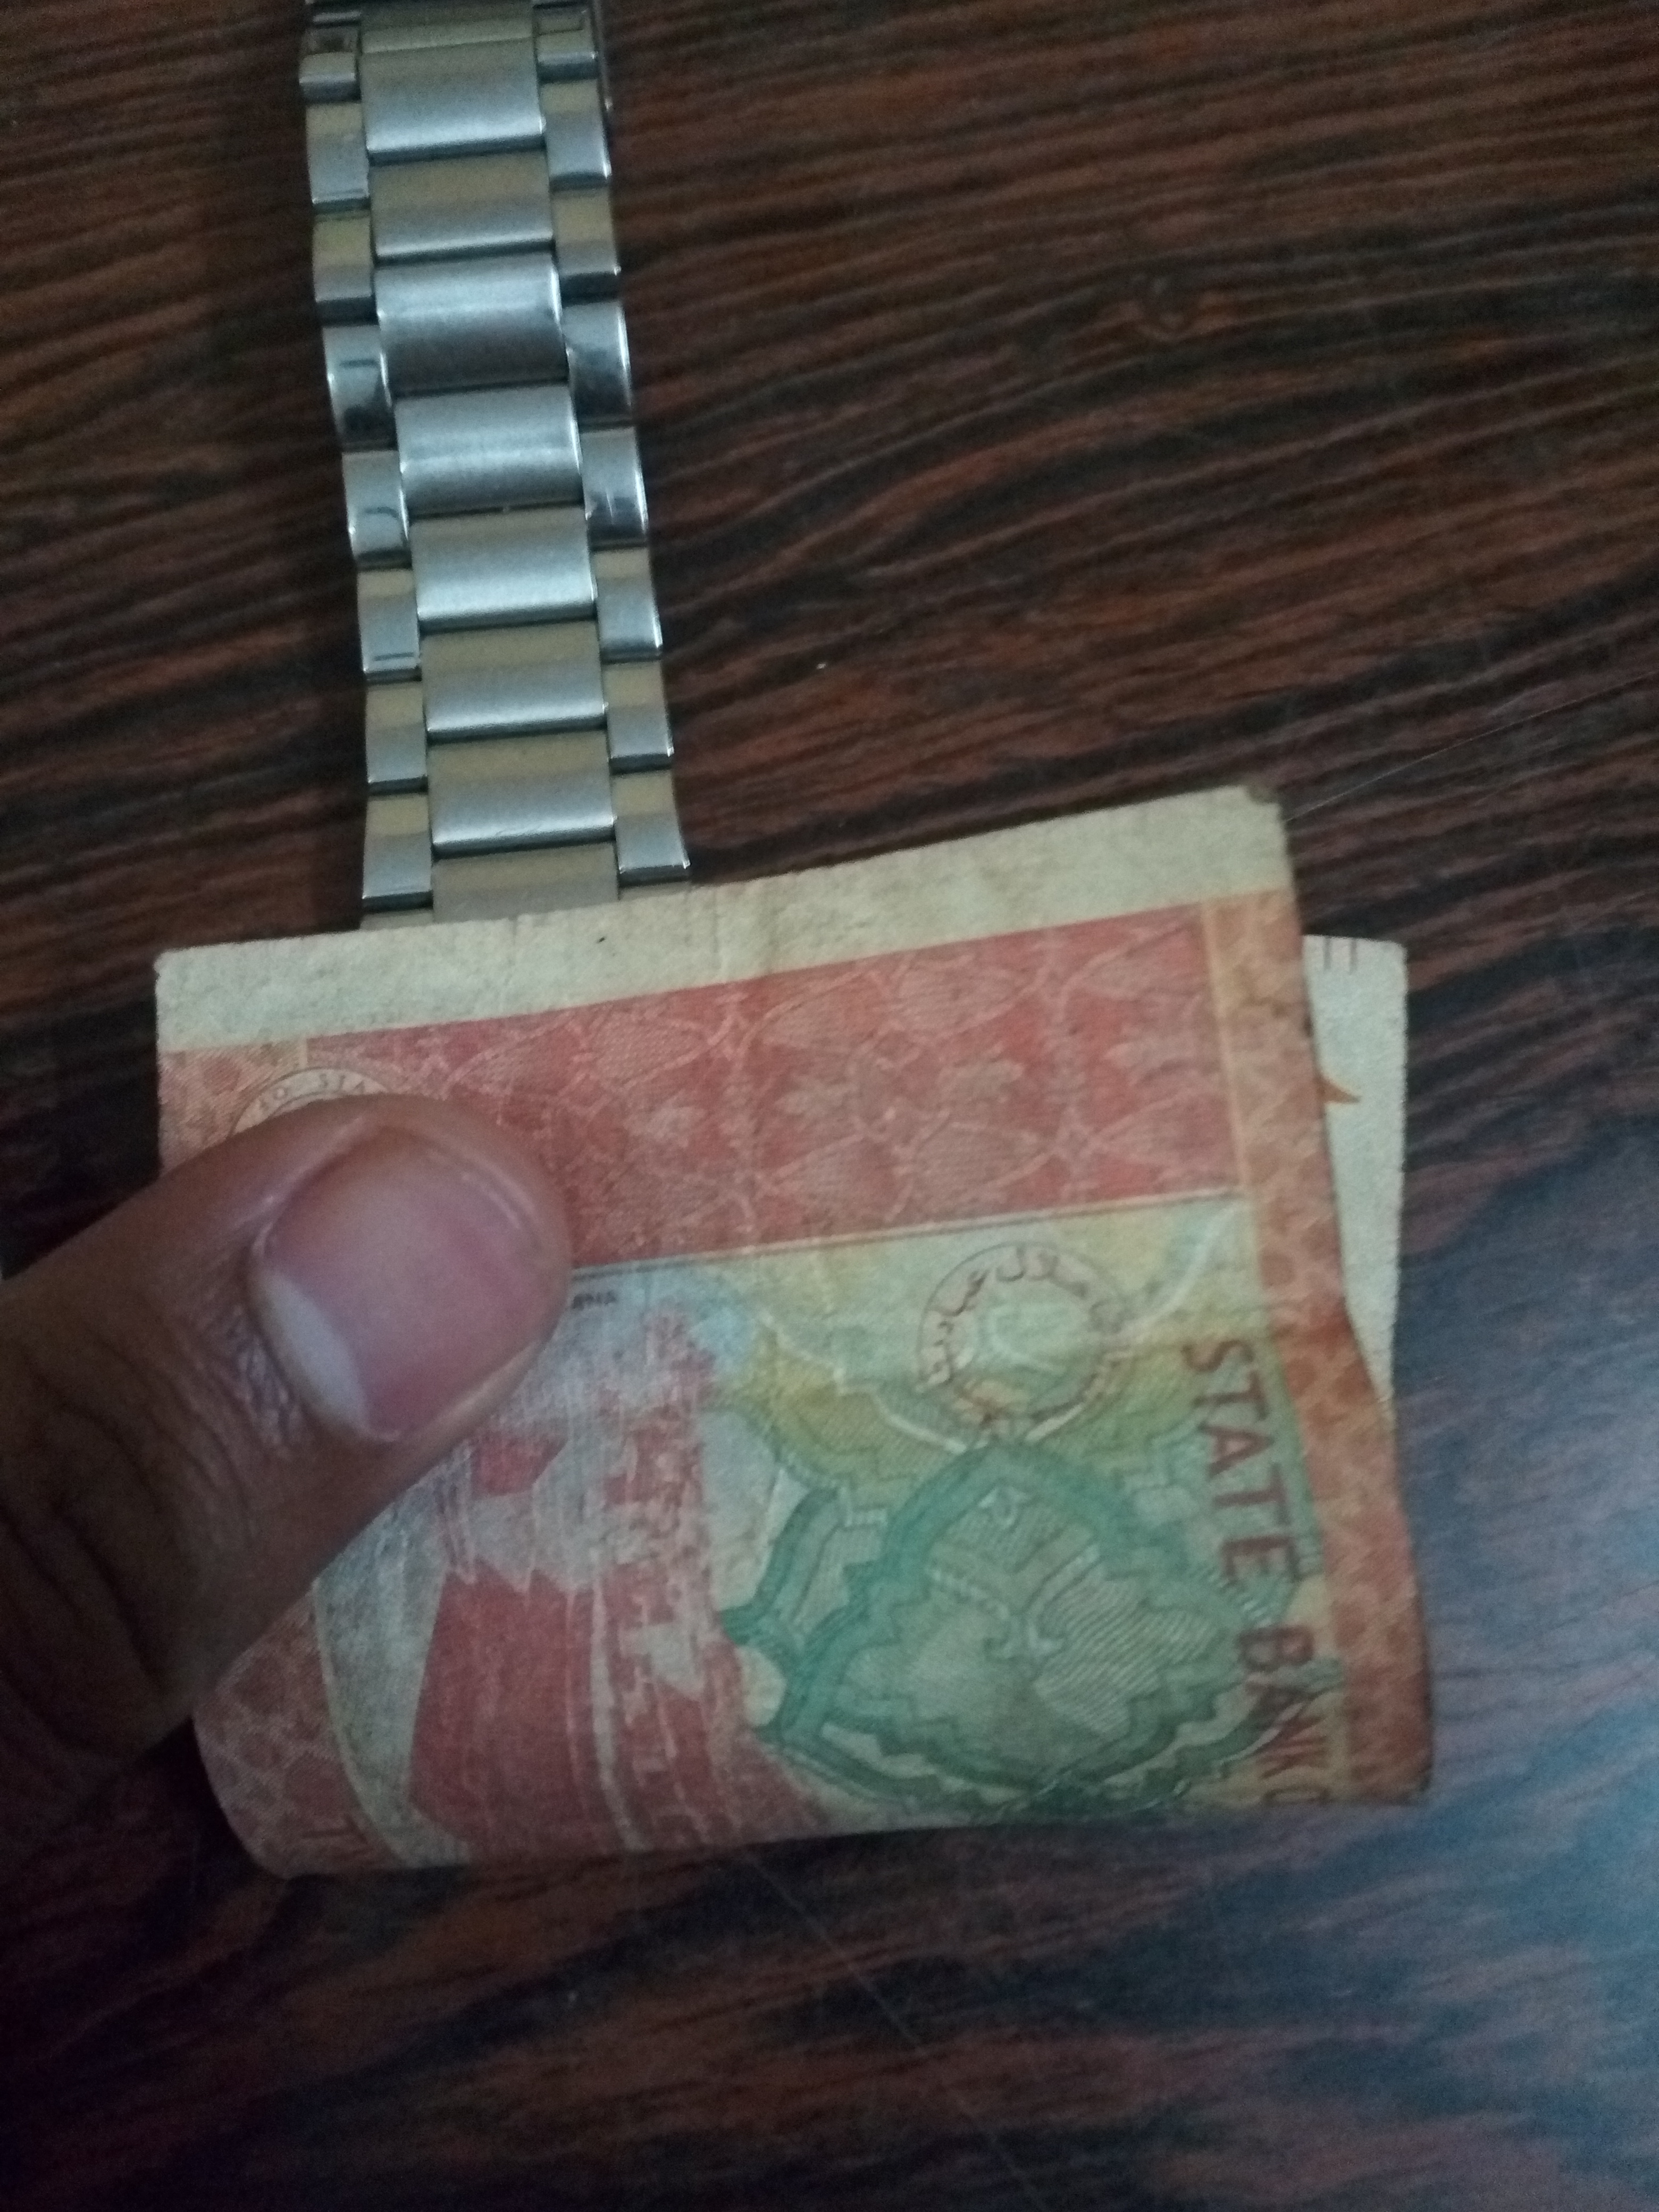20 rupee: (105, 719, 1483, 1958)
